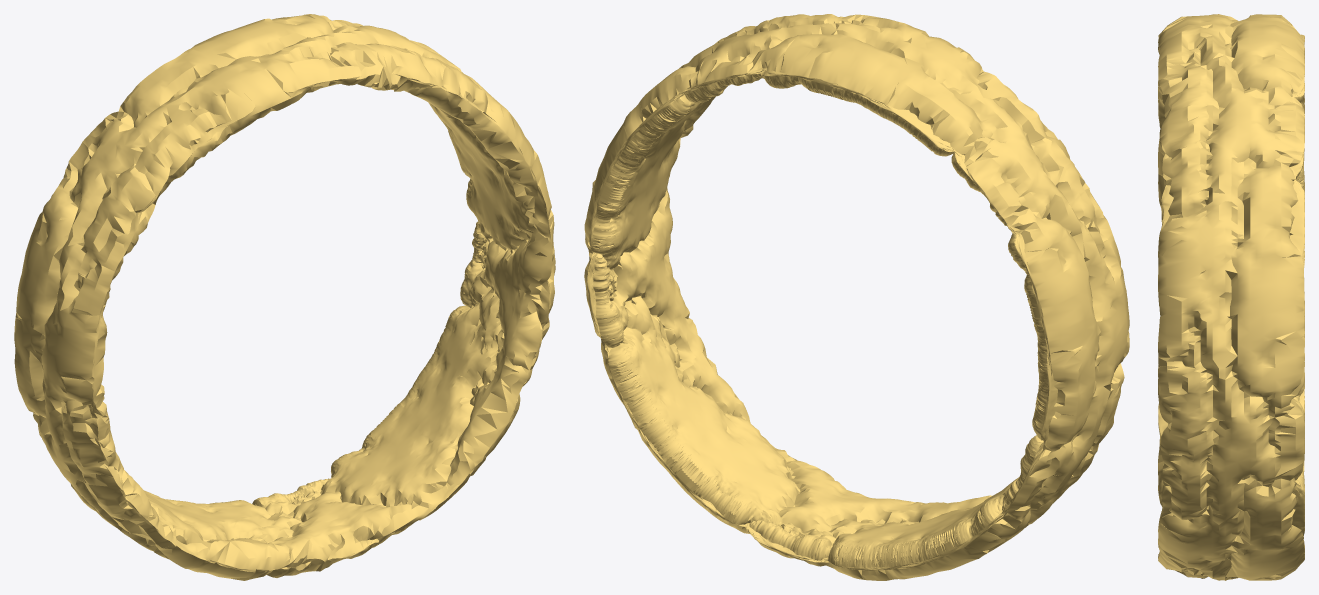
File: GregMygwb_blender.glb
The picture shows the model from 3 angles, left to right: view 1: azimuth 30°, elevation 25°; view 2: azimuth 150°, elevation 25°; view 3: azimuth 270°, elevation 25°; orthographic projection.
Parts seen in each view (by area): view 1: Greg YG for 3d model; view 2: Greg YG for 3d model; view 3: Greg YG for 3d model.
Boxes of the visible parts, x1,y1,x2,y2 form: Greg YG for 3d model: [14, 14, 555, 580]; Greg YG for 3d model: [584, 14, 1129, 580]; Greg YG for 3d model: [1158, 14, 1304, 580].
Size of the model in its own units: 22.02 by 22.01 by 5.7.
